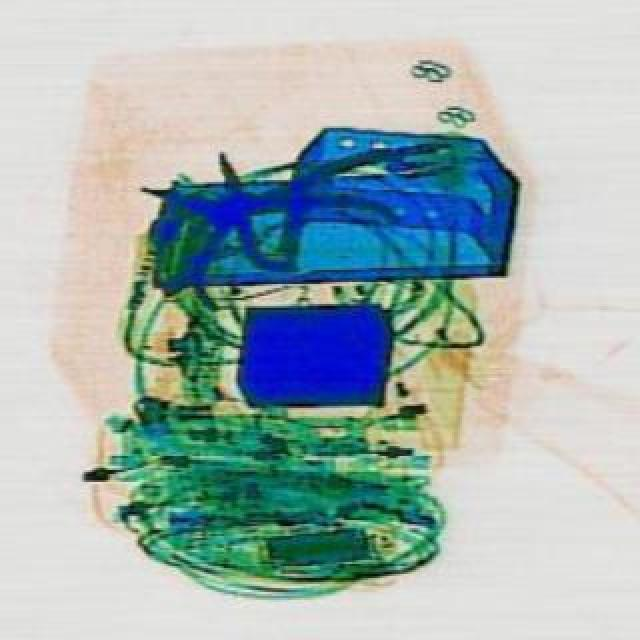wrench: (110, 84, 398, 346)
